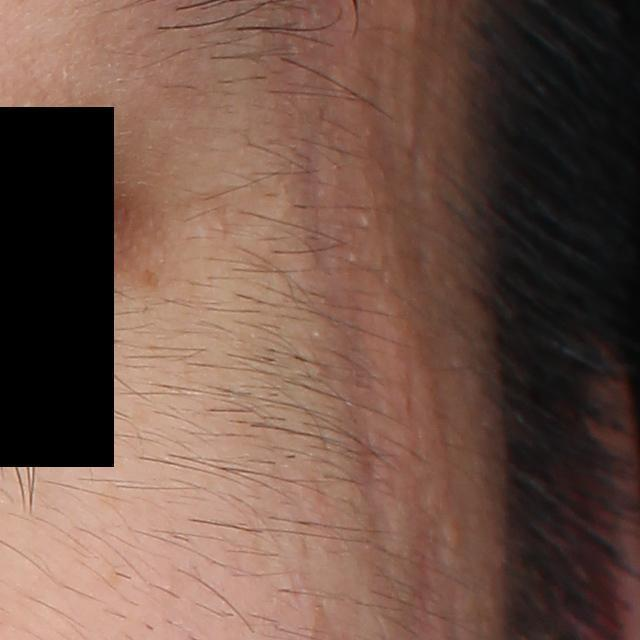melasma: (138, 265, 159, 292)
